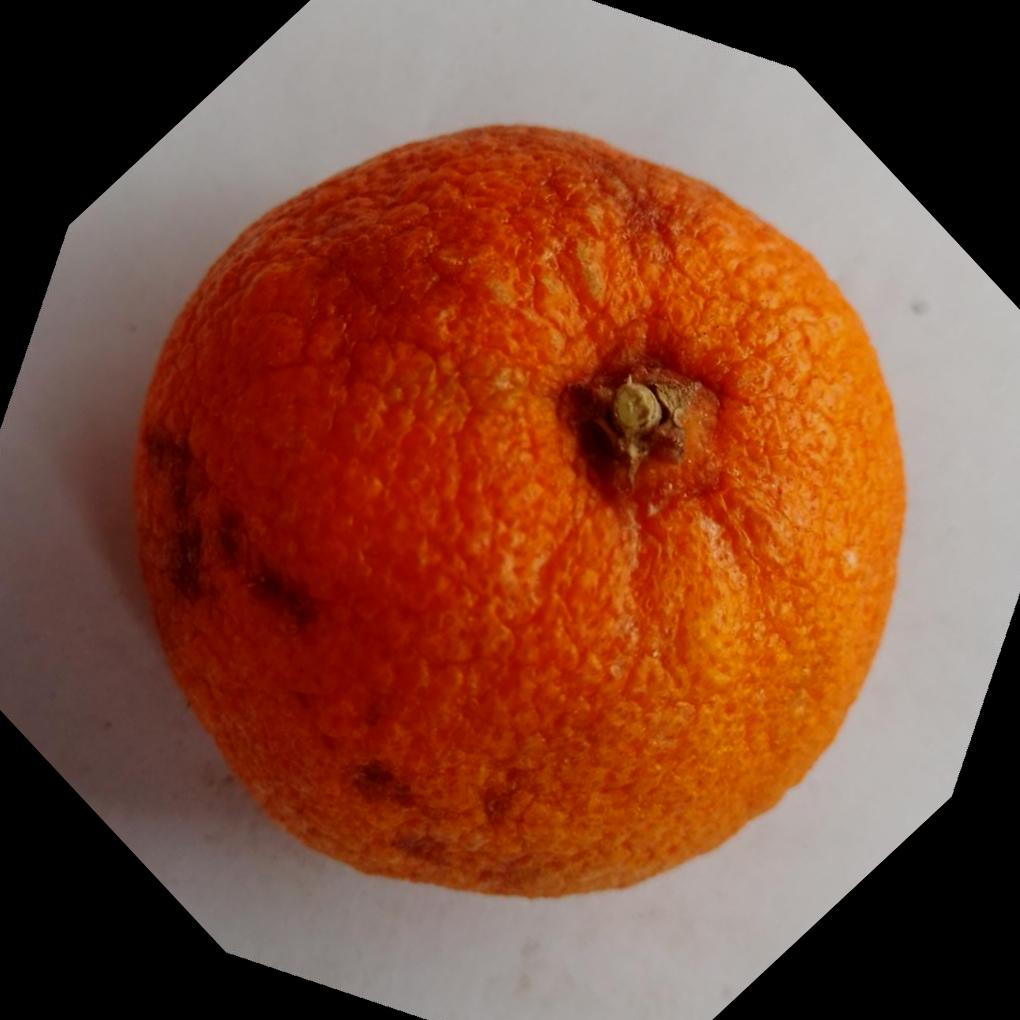FreshOrange: (124, 121, 907, 903)
